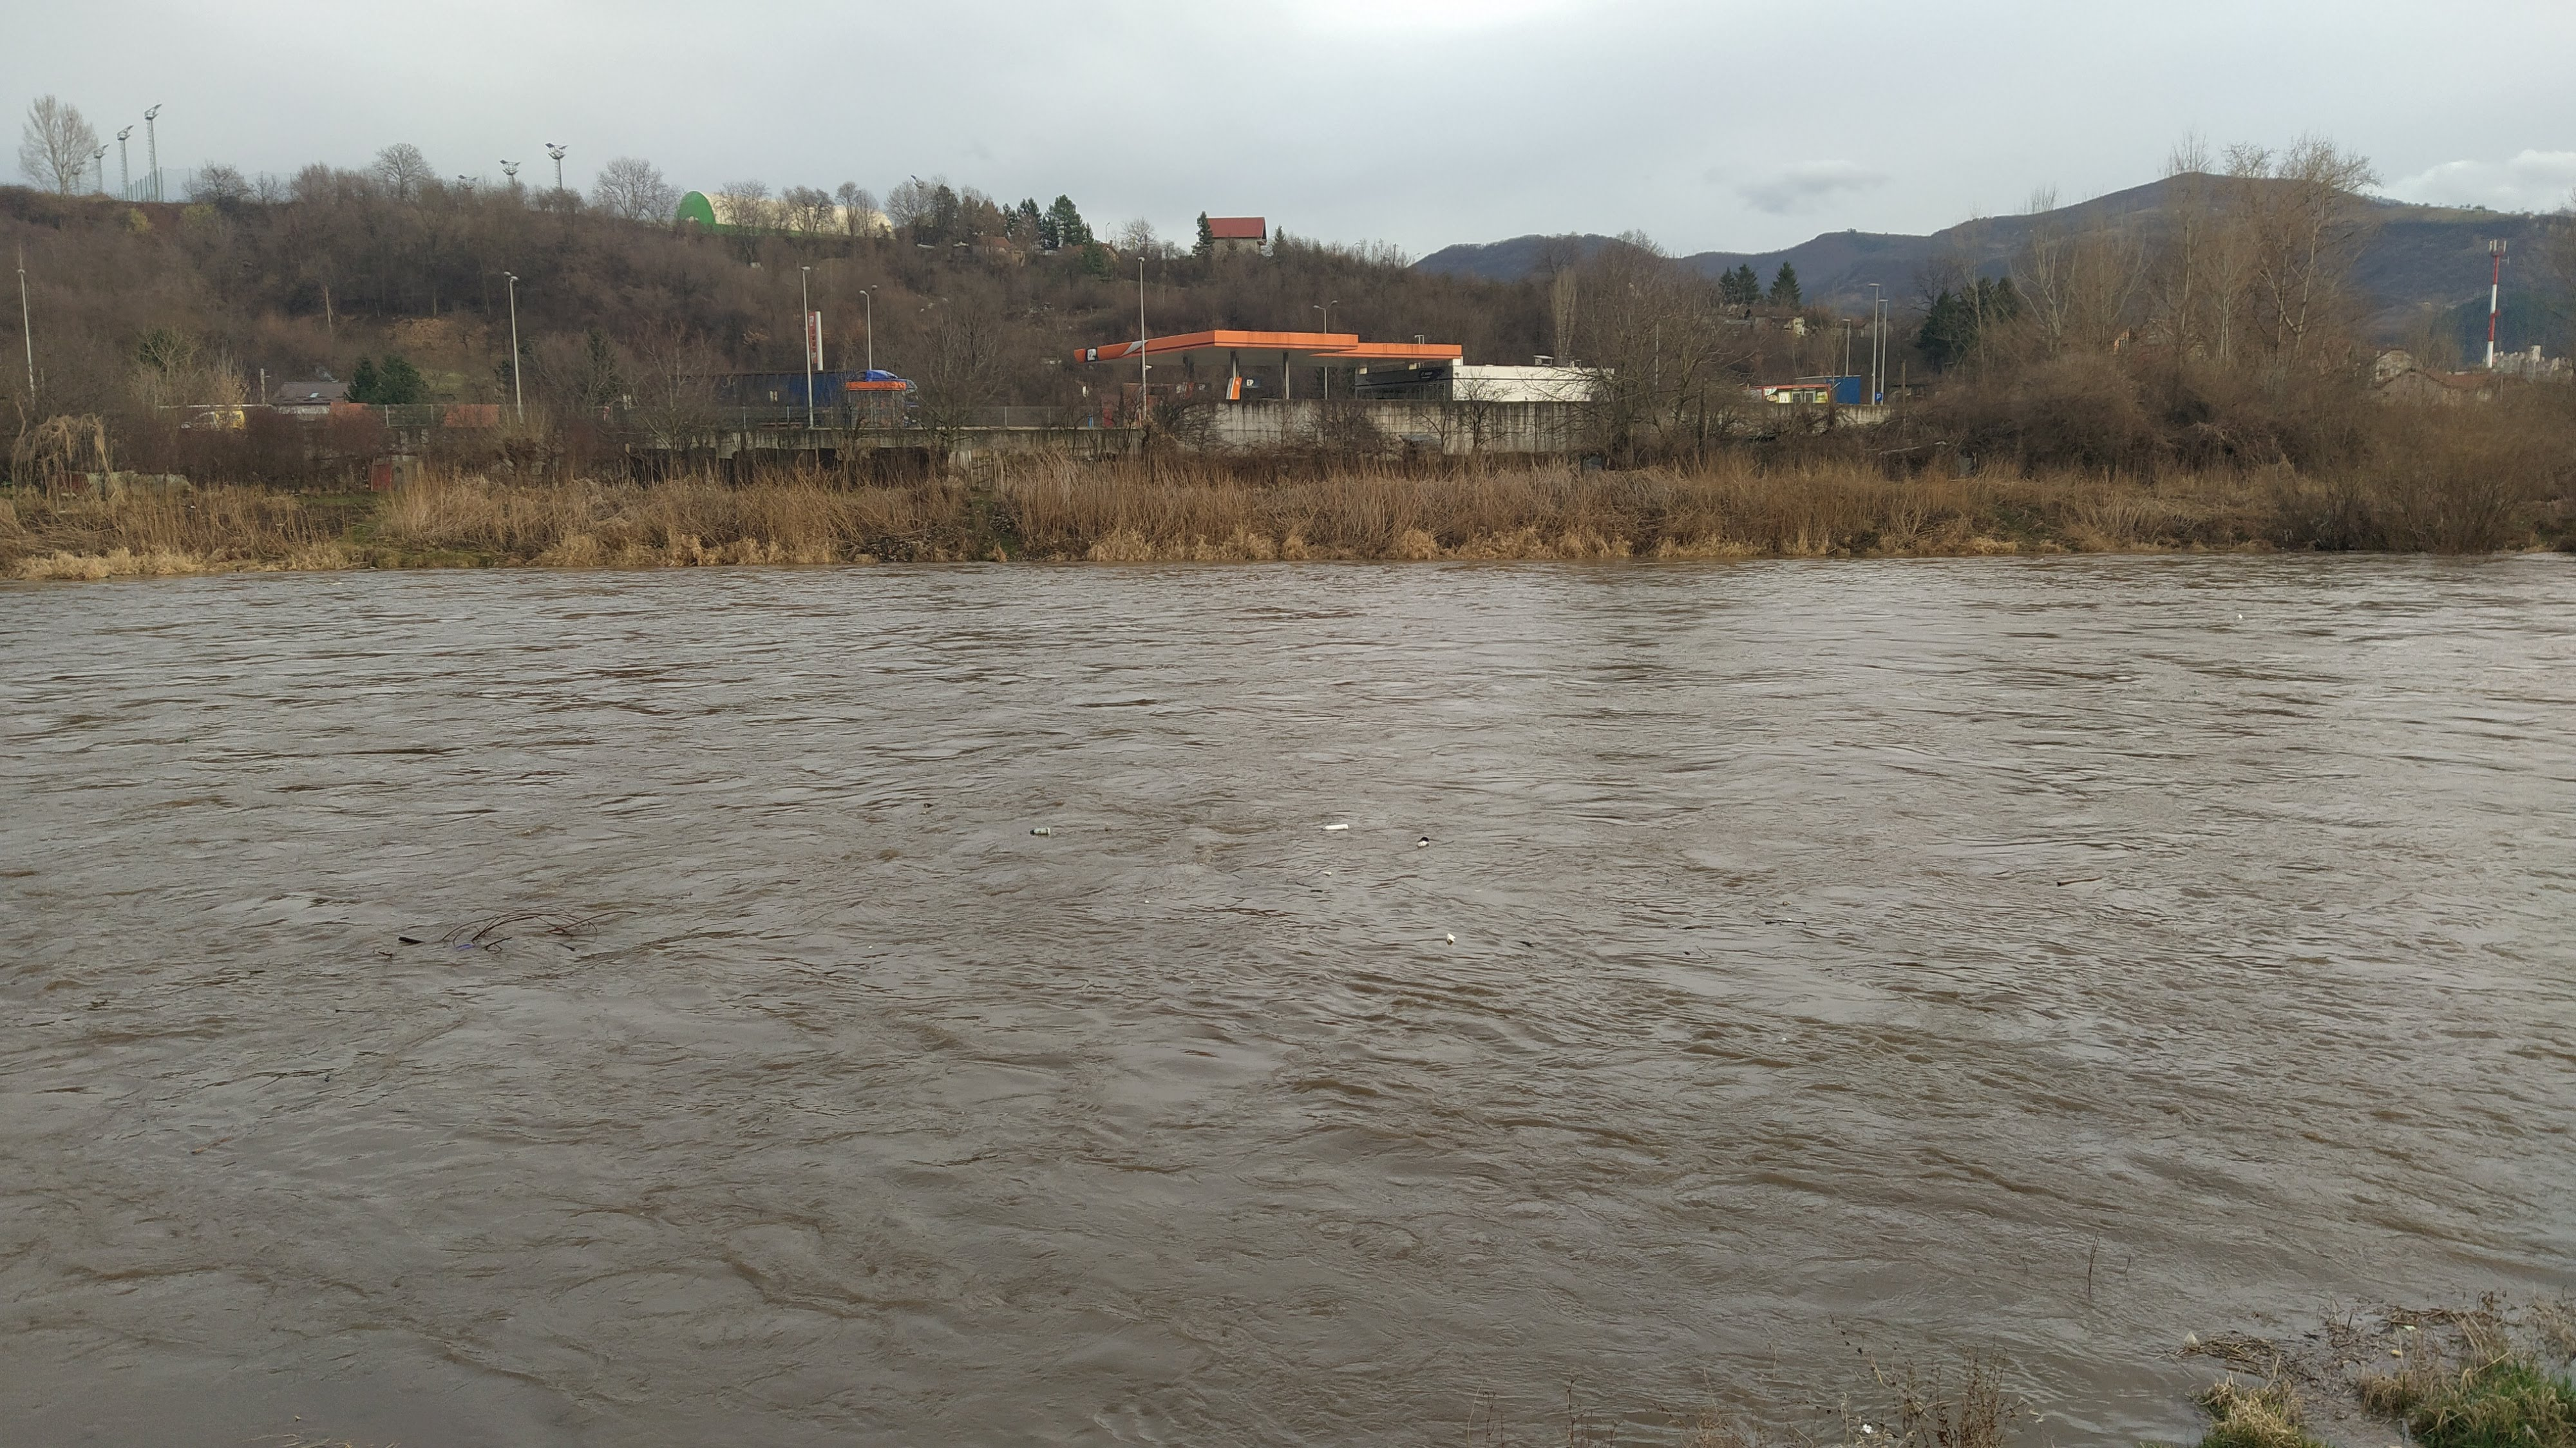Plastic Bottle: (2183, 1331, 2199, 1347), (1322, 823, 1348, 830), (1030, 827, 1049, 834), (1444, 933, 1454, 942), (1417, 841, 1428, 848), (1323, 871, 1330, 876)
